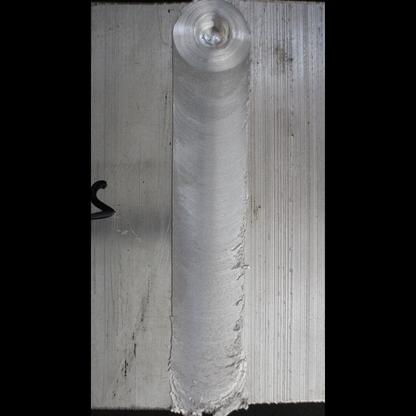crack: (230, 236, 248, 281), (223, 355, 245, 372), (232, 293, 246, 307)
galling: (163, 370, 253, 411), (233, 318, 244, 354)
keyhole: (166, 3, 256, 72)
